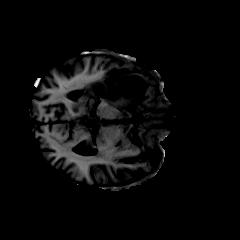glioma: (70, 63, 151, 112)
